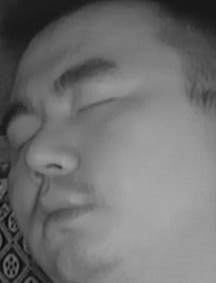blink: (71, 88, 120, 119), (8, 124, 41, 151)
mouth: (28, 184, 98, 239)
